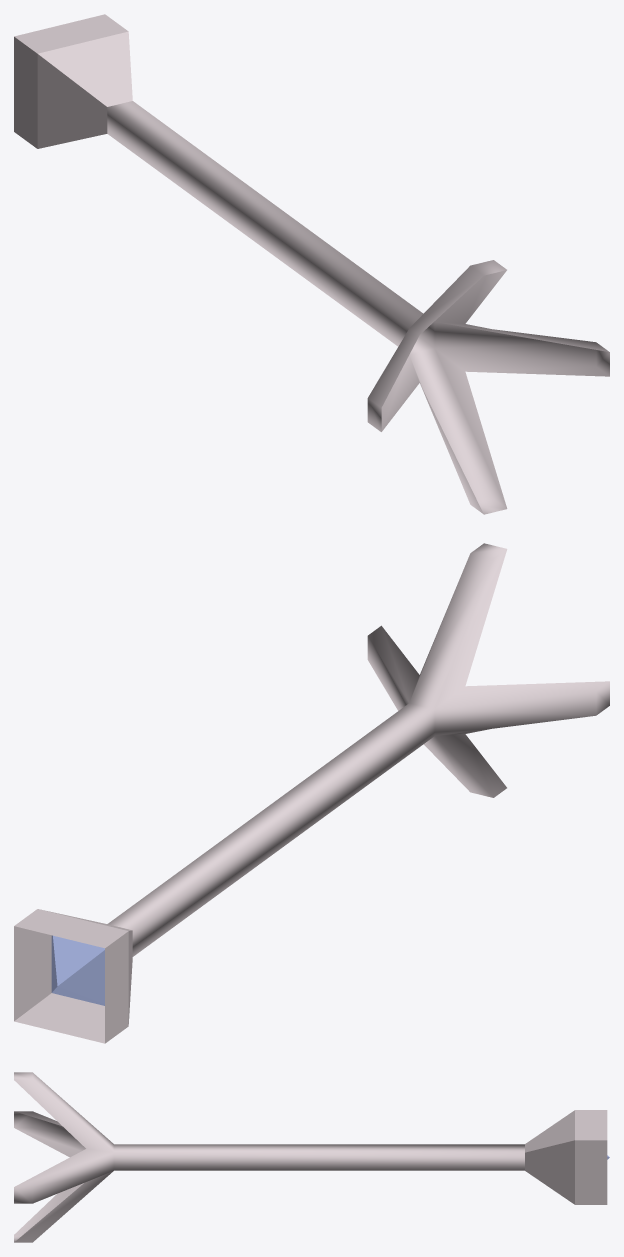
The picture shows the model from 3 angles, top to bottom: view 1: azimuth 30°, elevation 25°; view 2: azimuth 150°, elevation 25°; view 3: azimuth 270°, elevation 25°; orthographic projection. The views are drawn at different scales.
Parts seen in each view (by area): view 1: Object43; view 2: Object43; view 3: Object43.
Boxes of the visible parts, x1,y1,x2,y2 form: Object43: (14, 14, 609, 514); Object43: (14, 543, 609, 1043); Object43: (14, 1072, 609, 1242).
Bounding box in the file's own units: 5000 × 5000 × 16610.
